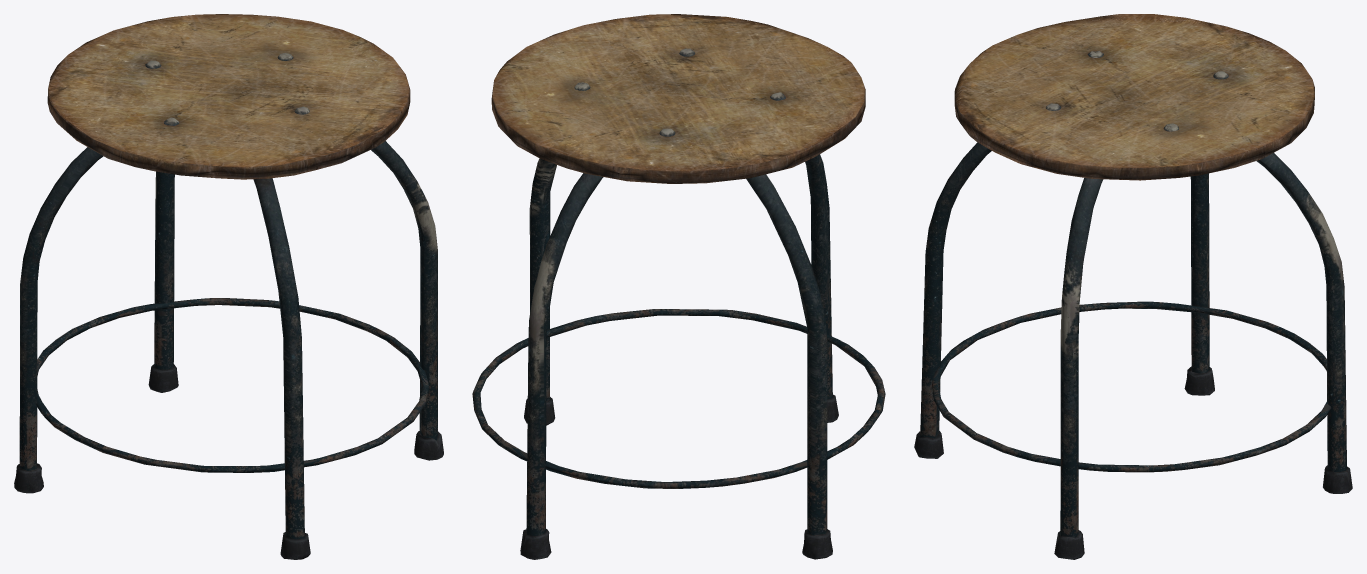
File: CornerStool.glb
The picture shows the model from 3 angles, left to right: view 1: azimuth 30°, elevation 25°; view 2: azimuth 150°, elevation 25°; view 3: azimuth 270°, elevation 25°; orthographic projection. The views are drawn at different scales.
Parts seen in each view (by area): view 1: CornerStool; view 2: CornerStool; view 3: CornerStool.
Boxes of the visible parts, left/top/right/bottom form: CornerStool: left=14, top=14, right=443, bottom=559; CornerStool: left=472, top=14, right=885, bottom=559; CornerStool: left=914, top=14, right=1352, bottom=559.
Size of the model in its own units: 0.4478 by 0.4583 by 0.4731.
Materials: 1 (1 with a texture image).
